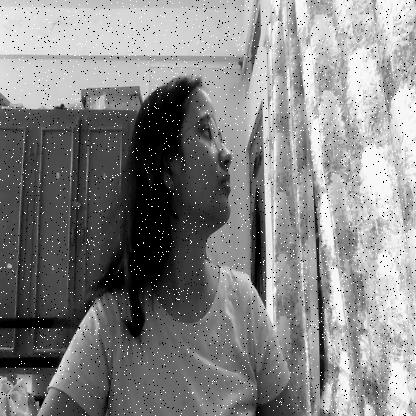Distracted: (122, 70, 236, 248)
